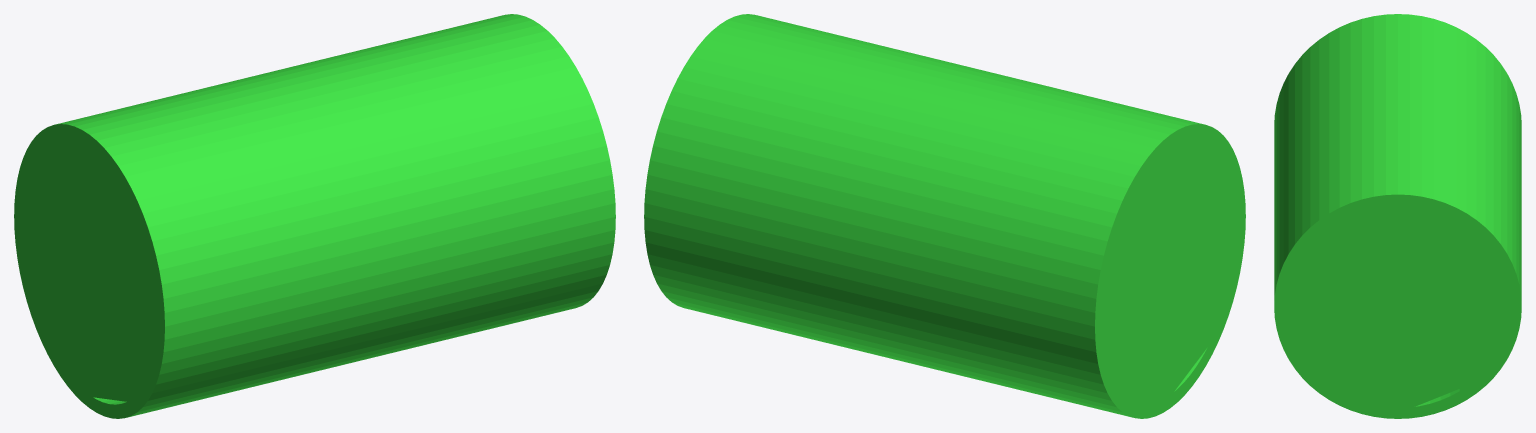
File: Verlängerungsröhre.fbx
The picture shows the model from 3 angles, left to right: view 1: azimuth 30°, elevation 25°; view 2: azimuth 150°, elevation 25°; view 3: azimuth 270°, elevation 25°; orthographic projection. The views are drawn at different scales.
Parts seen in each view (by area): view 1: Verlängerungsröhre; view 2: Verlängerungsröhre; view 3: Verlängerungsröhre.
Part boxes in pixels (bbox=[...]): Verlängerungsröhre: bbox=[14, 14, 615, 418]; Verlängerungsröhre: bbox=[644, 14, 1245, 418]; Verlängerungsröhre: bbox=[1274, 14, 1521, 418].
Size of the model in its own units: 688 by 399 by 399.
